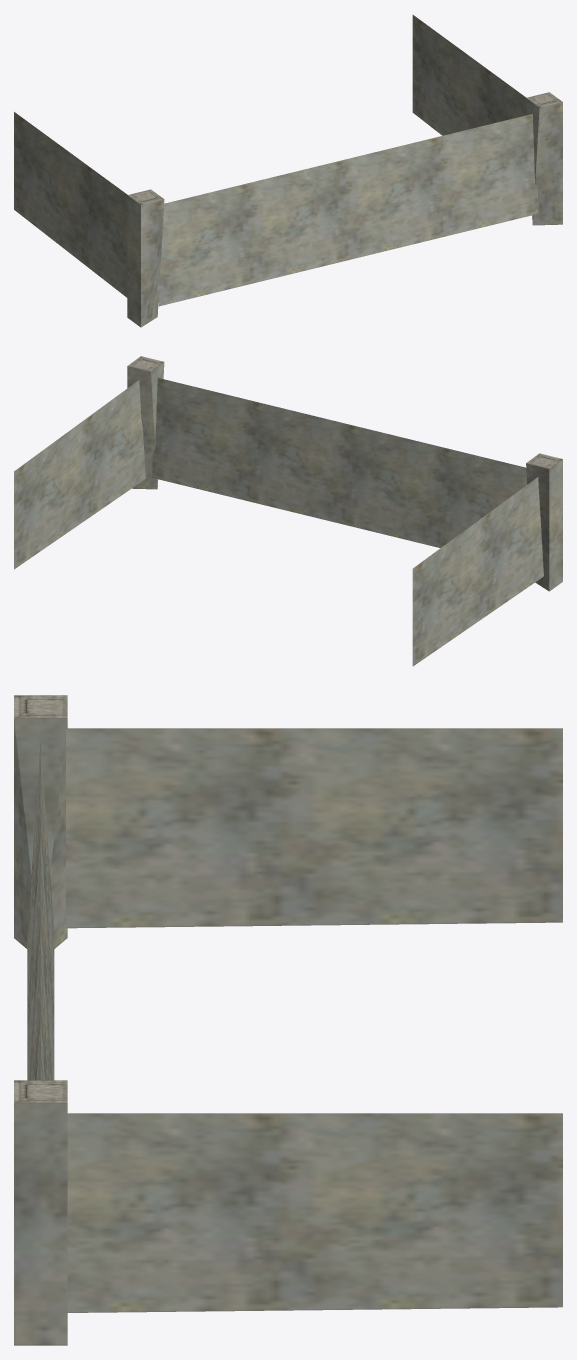
Rendered from poi_all_corral_pen_16x8_s01_l1.fbx.
3 views of the same model, one above another, from view 1: azimuth 30°, elevation 25°; view 2: azimuth 150°, elevation 25°; view 3: azimuth 270°, elevation 25° (orthographic). The views are drawn at different scales.
Parts seen in each view (by area): view 1: mesh_node; view 2: mesh_node; view 3: mesh_node.
Part boxes in pixels (x1,y1,x2,y2): mesh_node: (14,15,562,327); mesh_node: (14,356,562,666); mesh_node: (14,695,562,1345).
Size of the model in its own units: 18 by 5 by 10.25.
Materials: 1 (1 with a texture image).
